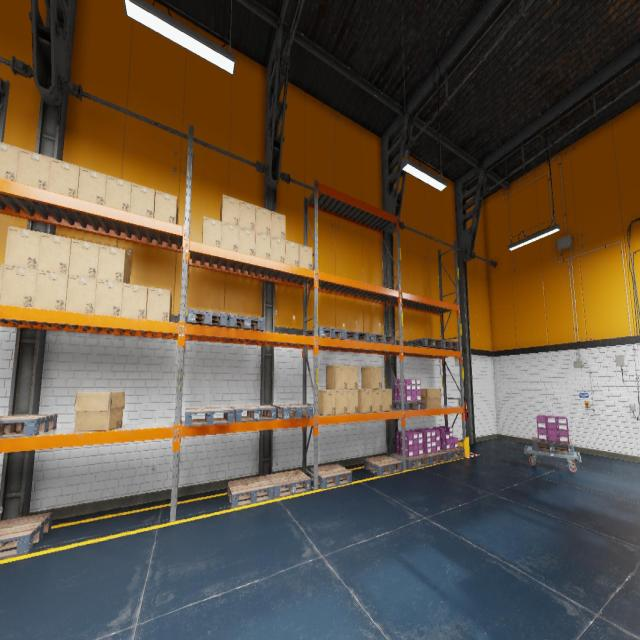box: (73, 392, 125, 431), (4, 226, 41, 270), (0, 265, 37, 307), (38, 232, 72, 274), (16, 148, 50, 190), (34, 270, 68, 311), (97, 244, 131, 283), (48, 158, 80, 198), (65, 275, 97, 313), (69, 239, 99, 278), (77, 167, 107, 205), (94, 279, 123, 317), (121, 283, 148, 319), (105, 175, 132, 211), (146, 287, 172, 322), (130, 183, 155, 218), (154, 190, 178, 224), (0, 142, 19, 181), (220, 194, 240, 227), (202, 216, 222, 247), (239, 200, 256, 231), (221, 222, 239, 251), (326, 365, 347, 389), (361, 366, 382, 389), (238, 227, 255, 255), (318, 390, 336, 416), (255, 206, 271, 235), (255, 232, 271, 260), (421, 388, 441, 408), (271, 211, 285, 239), (271, 236, 285, 263), (285, 240, 299, 266), (299, 244, 312, 270), (358, 389, 372, 412), (370, 389, 382, 412), (347, 365, 358, 389), (336, 390, 347, 414), (348, 389, 358, 414), (382, 389, 392, 411), (0, 264, 4, 299)
pallets: (0, 512, 53, 559), (228, 475, 274, 508), (0, 413, 57, 438), (266, 469, 311, 498), (310, 463, 352, 489), (184, 407, 234, 426), (364, 455, 403, 476), (230, 405, 276, 422), (187, 308, 228, 327), (532, 437, 574, 455), (272, 404, 313, 420), (227, 314, 264, 331), (392, 454, 429, 469), (307, 326, 344, 339), (338, 330, 369, 342), (422, 450, 448, 464), (408, 338, 443, 348), (392, 401, 426, 410), (429, 340, 459, 350), (440, 448, 464, 460), (369, 334, 395, 344)
